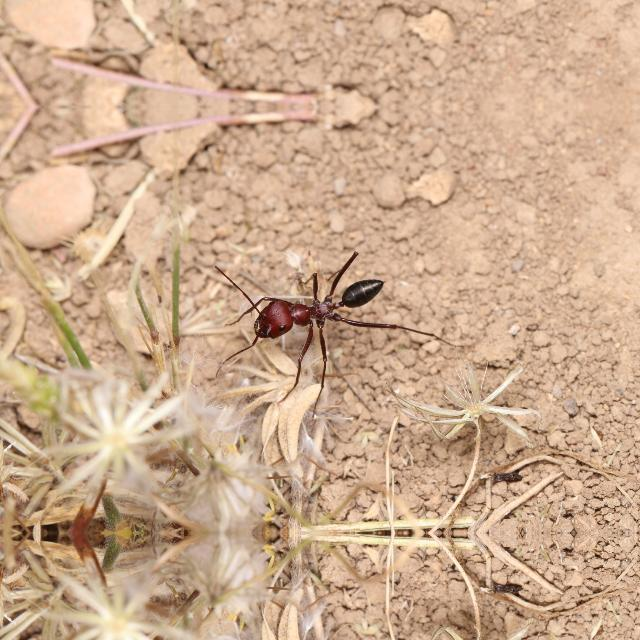Cataglyphis: (238, 262, 404, 352)
